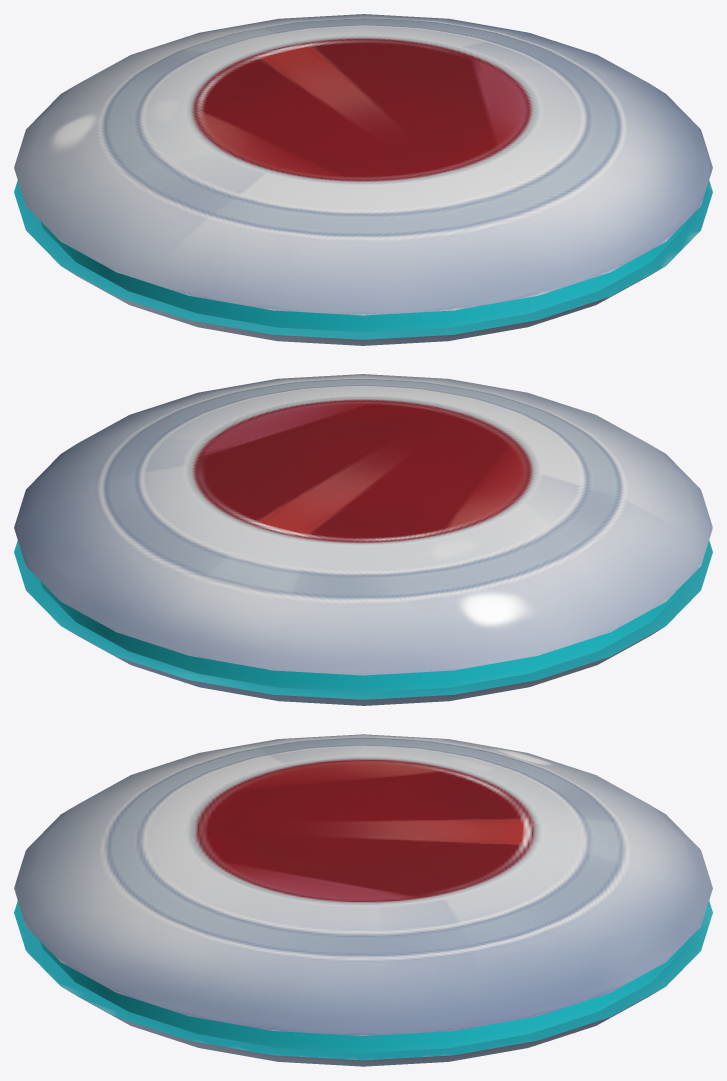
File: Ship.FBX
3 renders of one model, top to bottom at view 1: azimuth 30°, elevation 25°; view 2: azimuth 150°, elevation 25°; view 3: azimuth 270°, elevation 25°, orthographic.
Visible parts, largest first — view 1: ship, ship_1; view 2: ship, ship_1; view 3: ship, ship_1.
Part boxes in pixels (x1,y1,x2,y2): ship: [14, 14, 712, 345]; ship_1: [40, 221, 686, 332]; ship: [14, 374, 712, 705]; ship_1: [40, 581, 686, 692]; ship: [14, 734, 712, 1066]; ship_1: [40, 941, 686, 1052].
Bounding box in the file's own units: 1.06 × 1.06 × 0.2332.
Materials: 1 (1 with a texture image).
